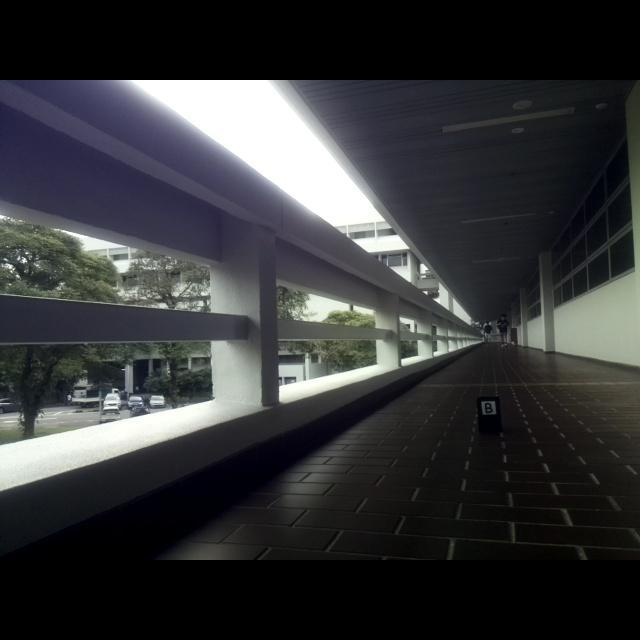B: (484, 403, 494, 415)
